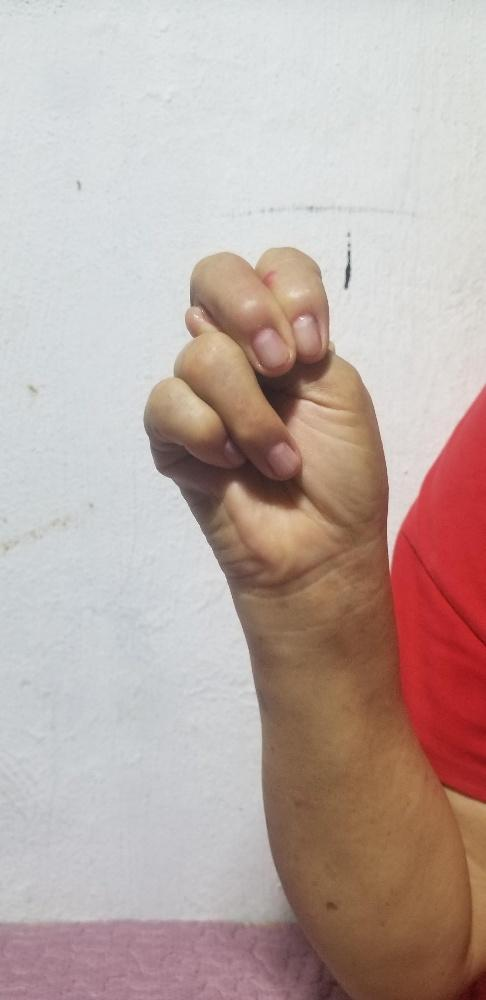n: (139, 241, 390, 554)
